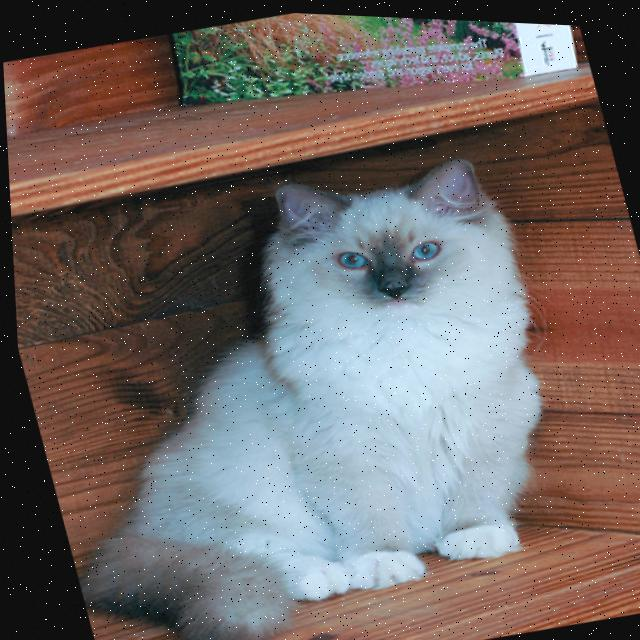Ragdoll: (5, 113, 610, 640)
